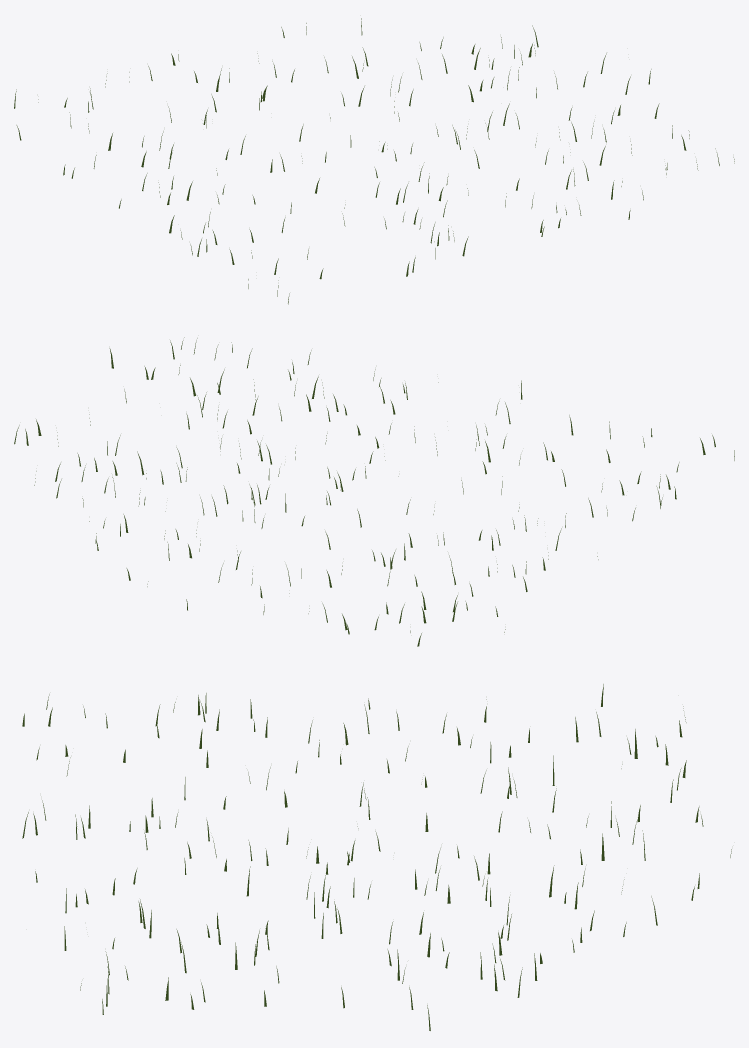
3 renders of one model, top to bottom at view 1: azimuth 30°, elevation 25°; view 2: azimuth 150°, elevation 25°; view 3: azimuth 270°, elevation 25°, orthographic. The views are drawn at different scales.
Parts seen in each view (by area): view 1: GrassPatch; view 2: GrassPatch; view 3: GrassPatch.
Part boxes in pixels (x1,y1,x2,y2): GrassPatch: (14, 18, 734, 304); GrassPatch: (14, 337, 734, 646); GrassPatch: (22, 684, 731, 1030).
Bounding box in the file's own units: 11.25 × 0.4877 × 10.41.
